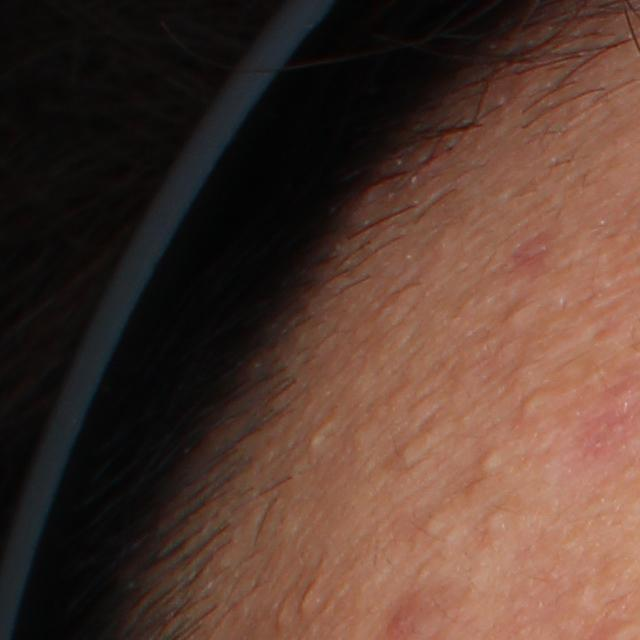comedo: (392, 428, 433, 468), (502, 296, 538, 327), (515, 389, 549, 421), (479, 441, 508, 471), (480, 507, 510, 533), (297, 575, 318, 610), (422, 511, 447, 538), (308, 427, 325, 447)
